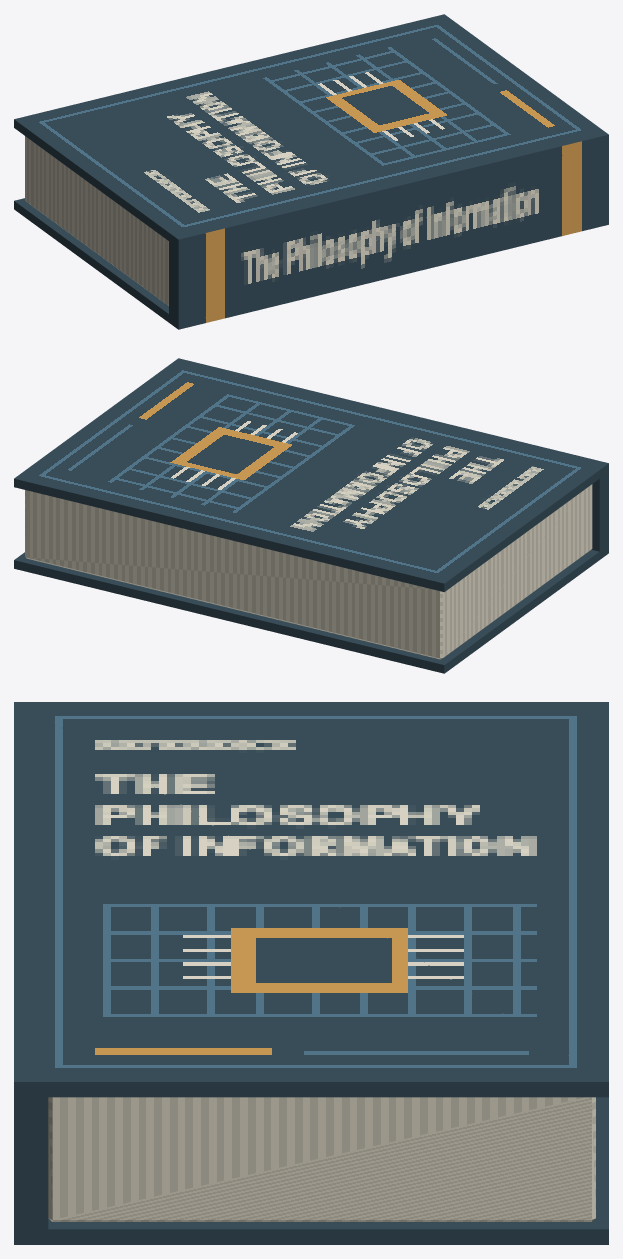
Rendered from book_nonf_hard_phil_phinfo.glb.
3 views of the same model, one above another, from view 1: azimuth 30°, elevation 25°; view 2: azimuth 150°, elevation 25°; view 3: azimuth 270°, elevation 25° (orthographic). The views are drawn at different scales.
Visible parts, largest first — view 1: block_front, block_spine, block_pages, block_back; view 2: block_front, block_pages, block_back, block_spine; view 3: block_front, block_pages, block_spine, block_back.
Part boxes in pixels (<box>): block_front: <box>14,14,606,245</box>; block_spine: <box>169,127,608,329</box>; block_pages: <box>25,136,168,305</box>; block_back: <box>14,198,175,327</box>; block_front: <box>14,360,606,592</box>; block_pages: <box>25,484,592,659</box>; block_back: <box>14,547,606,673</box>; block_spine: <box>173,358,608,554</box>; block_front: <box>22,702,608,1097</box>; block_pages: <box>48,1097,595,1221</box>; block_spine: <box>14,702,48,1244</box>; block_back: <box>22,1097,608,1244</box>.
Size of the model in its own units: 0.24 by 0.048 by 0.1589.
Materials: 1 (1 with a texture image).
